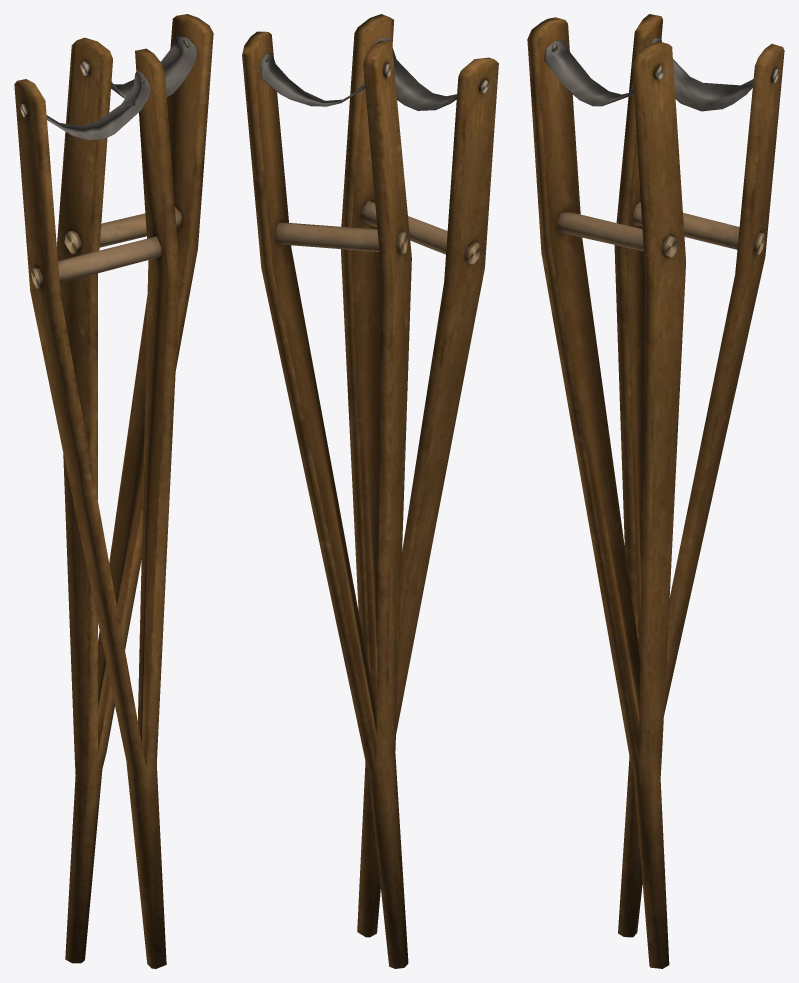
File: vintage_crutches_01.glb
3 renders of one model, left to right at view 1: azimuth 30°, elevation 25°; view 2: azimuth 150°, elevation 25°; view 3: azimuth 330°, elevation 25°, orthographic.
Parts seen in each view (by area): view 1: vintage_crutches_01_crutch01; view 2: vintage_crutches_01_crutch01; view 3: vintage_crutches_01_crutch01.
Part boxes in pixels (bbox=[...]): vintage_crutches_01_crutch01: bbox=[14, 14, 213, 968]; vintage_crutches_01_crutch01: bbox=[242, 14, 498, 968]; vintage_crutches_01_crutch01: bbox=[527, 14, 784, 968].
Bounding box in the file's own units: 0.3832 × 1.6 × 0.2011.
1 material, 1 textured.
